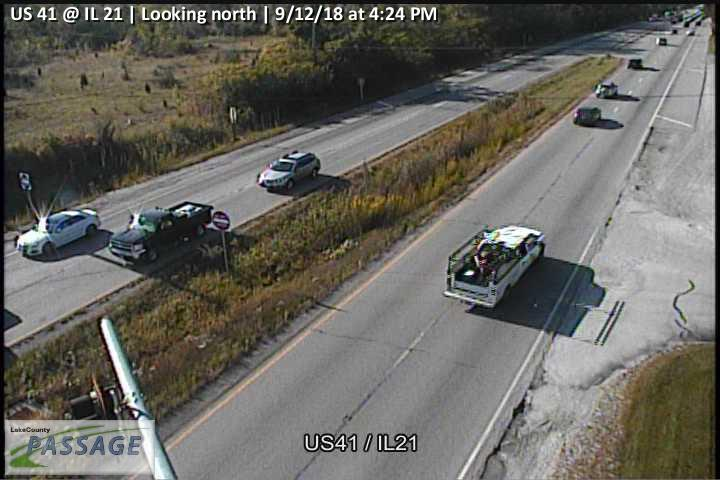SUV: (255, 148, 322, 194), (573, 105, 603, 126), (595, 79, 620, 98), (626, 56, 644, 69), (656, 36, 669, 46)
Sedan: (15, 205, 102, 258)
Truck: (443, 222, 548, 309), (106, 200, 214, 264)
